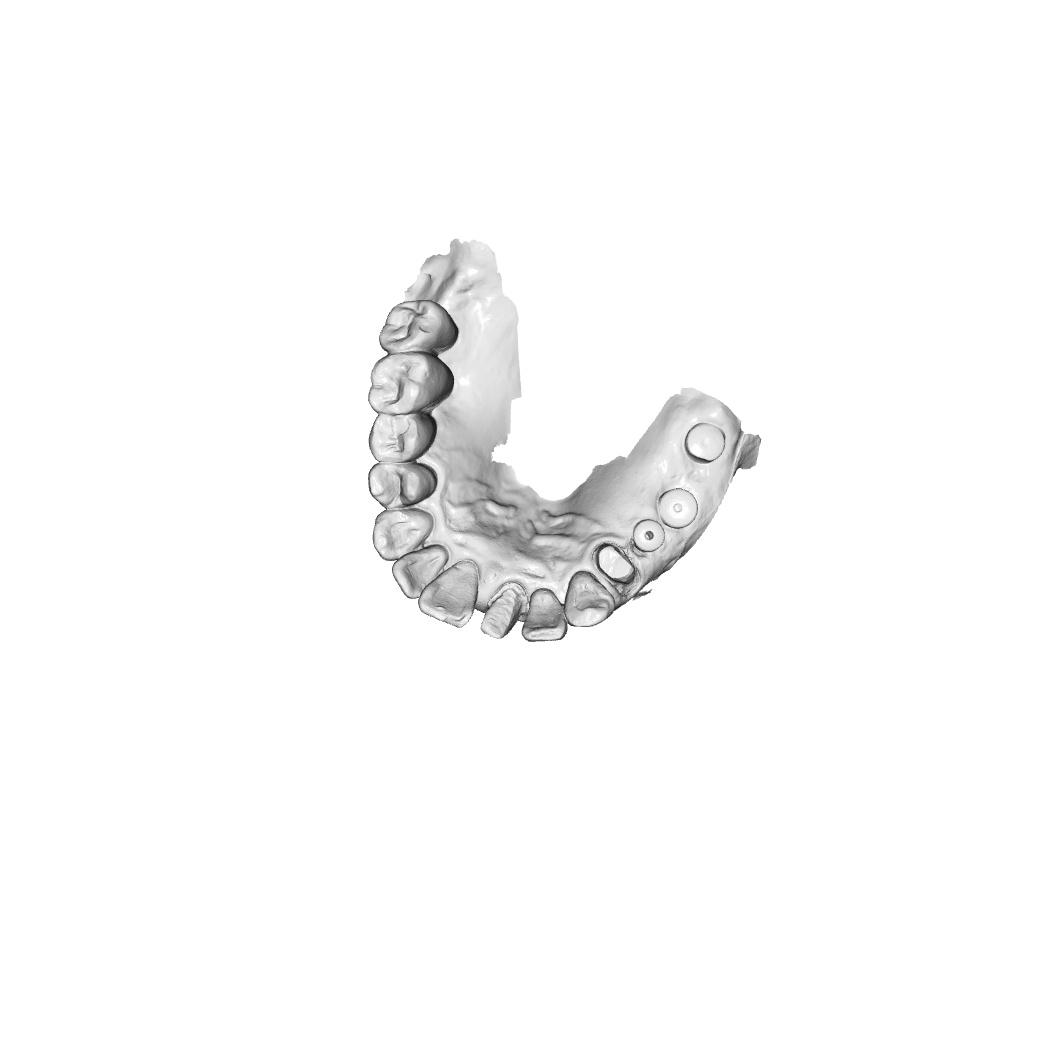canine: (562, 569, 617, 630), (372, 508, 434, 561)
crown: (479, 587, 519, 641), (595, 541, 641, 587)
implant: (685, 422, 727, 463), (657, 488, 699, 529), (633, 518, 668, 551)
incisor: (417, 557, 478, 632), (390, 544, 450, 603), (521, 584, 568, 644)
molar: (364, 351, 460, 414), (374, 298, 461, 355)
premolar: (367, 409, 441, 465), (367, 459, 441, 511)
